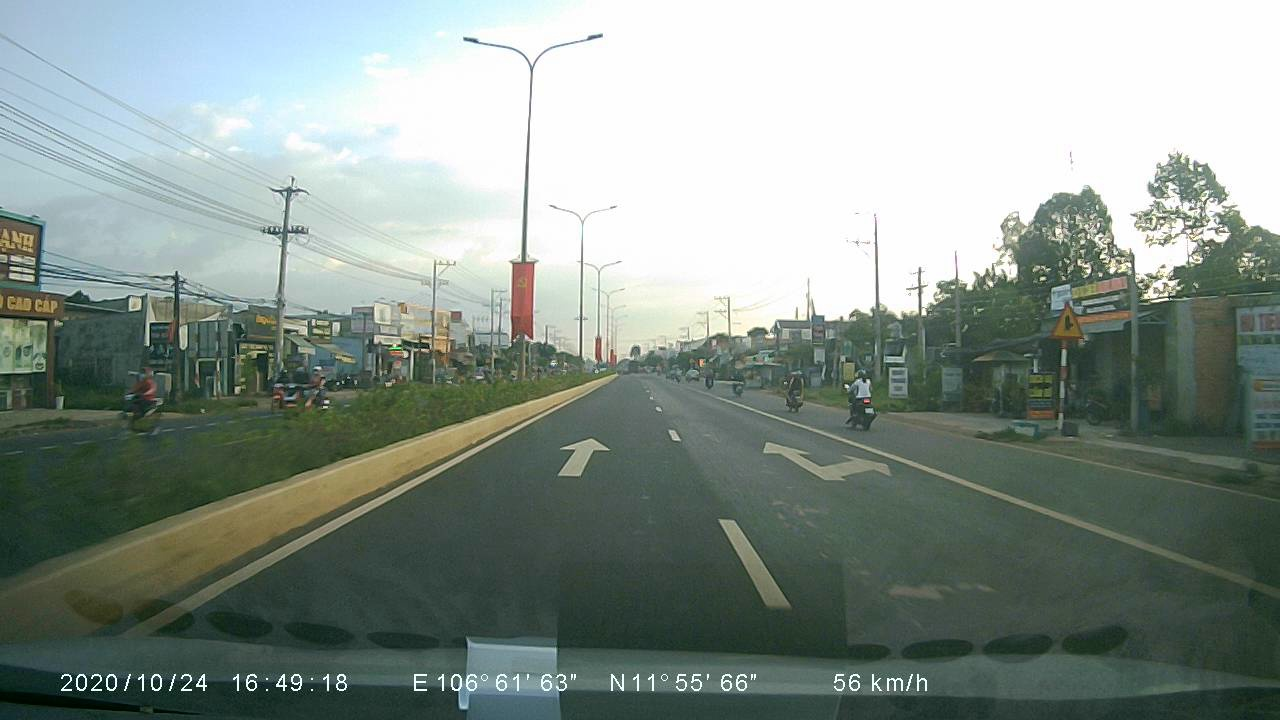Giao nhau voi duong khong uu tien: (1047, 297, 1090, 342)
